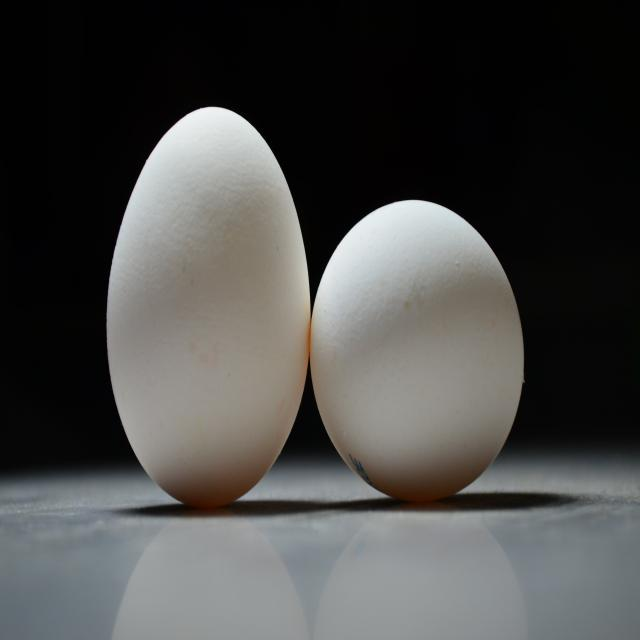egg: (103, 100, 309, 512), (311, 195, 526, 507)
